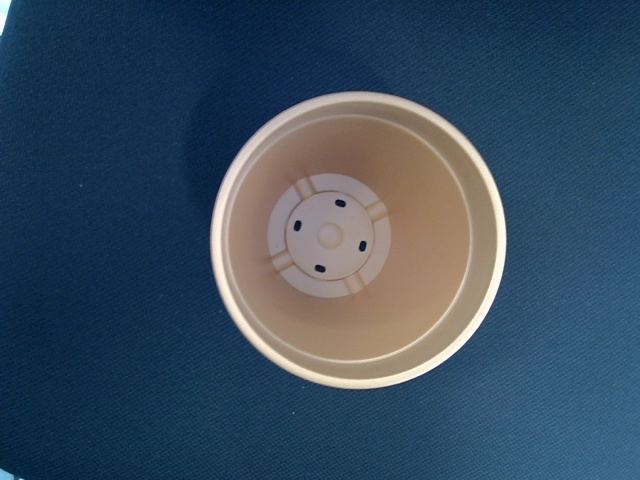화분: (209, 91, 506, 390)
